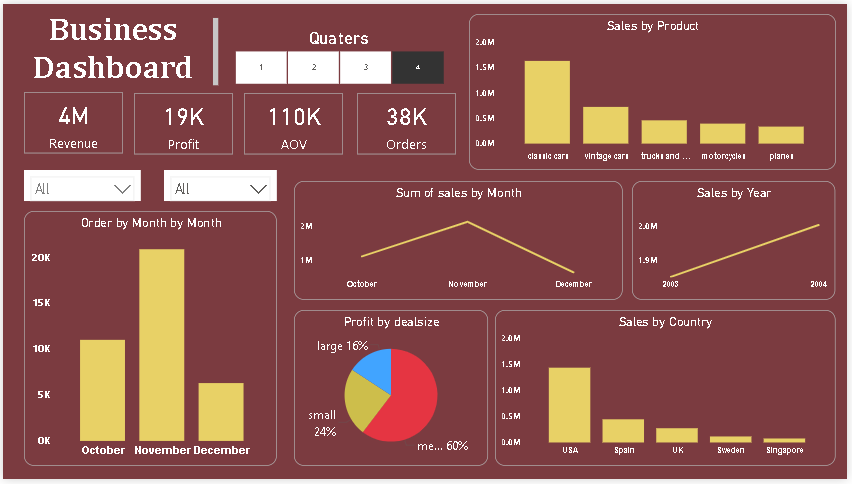

Layout of this report page (visuals, bound fields, positions):
{"tool":"powerbi","page":{"name":"Page 1","canvas":[1280,720],"ordinal":0},"visuals":[{"type":"lineChart","title":"Sales by Year","fields":{"Category":["Sheet1.sell_date.Variation.Date Hierarchy.Year","Sheet1.sell_date.Variation.Date Hierarchy.Quarter","Sheet1.sell_date.Variation.Date Hierarchy.Month","Sheet1.sell_date.Variation.Date Hierarchy.Day"],"Y":["Sum(Sheet1.sales)"]},"box":[953,268.2,307.6,180.3],"z":0},{"type":"columnChart","title":"Sales by Country","fields":{"Category":["Sheet1.country"],"Y":["Sum(Sheet1.sales)"]},"box":[745.7,464.3,515.7,235.7],"z":1000},{"type":"columnChart","title":"Sales by Product","fields":{"Category":["Sheet1.product"],"Y":["Sum(Sheet1.sales)"]},"box":[706.1,15.2,556.1,236.4],"z":2000},{"type":"slicer","title":"Quaters","fields":{"Values":["Sheet1.qtr_id"]},"box":[331.8,34.8,354.5,87.9],"z":3000},{"type":"card","fields":{"Values":["Sum(Sheet1.sales)"]},"box":[31.4,132.9,150,92.9],"z":4000},{"type":"card","fields":{"Values":["Sum(Sheet1.profit)"]},"box":[198.6,134.3,150,92.9],"z":5000},{"type":"card","fields":{"Values":["Sum(Sheet1.sell_price)"]},"box":[365.7,134.3,150,92.9],"z":6000},{"type":"card","fields":{"Values":["Sum(Sheet1.quantity_ordered)"]},"box":[535.7,134.3,150,92.9],"z":7000},{"type":"pieChart","title":"Profit by dealsize","fields":{"Category":["Sheet1.dealsize"],"Y":["Sum(Sheet1.profit)"]},"box":[440.9,463.6,293.9,236.4],"z":9000},{"type":"lineChart","fields":{"Y":["Sum(Sheet1.sales)"],"Category":["Sheet1.sell_date.Variation.Date Hierarchy.Month"]},"box":[440.9,268.2,498.5,180.3],"z":9001},{"type":"textbox","box":[15.2,15.2,310.6,107.6],"z":9002},{"type":"slicer","fields":{"Values":["Sheet1.sell_date.Variation.Date Hierarchy.Month"]},"box":[243.9,251.5,171.2,47],"z":9004},{"type":"slicer","fields":{"Values":["Sheet1.country"]},"box":[31.8,251.5,177.3,47],"z":9005},{"type":"lineClusteredColumnComboChart","fields":{"Category":["Sheet1.sell_date.Variation.Date Hierarchy.Month"],"Y":["Sum(Sheet1.quantity_ordered)"]},"box":[31.8,313.6,383.3,386.4],"z":9006}]}

Visuals, with their boxes in screenshot pixels (x1, y1, x2, y2), scaled from the page's 1280x720 canvas onto the 852x484 screenshot:
"Sales by Year" lineChart: (left=634, top=180, right=839, bottom=301)
"Sales by Country" columnChart: (left=496, top=312, right=840, bottom=471)
"Sales by Product" columnChart: (left=470, top=10, right=840, bottom=169)
"Quaters" slicer: (left=221, top=23, right=457, bottom=82)
card - Sum(Sheet1.sales): (left=21, top=89, right=121, bottom=152)
card - Sum(Sheet1.profit): (left=132, top=90, right=232, bottom=153)
card - Sum(Sheet1.sell_price): (left=243, top=90, right=343, bottom=153)
card - Sum(Sheet1.quantity_ordered): (left=357, top=90, right=456, bottom=153)
"Profit by dealsize" pieChart: (left=293, top=312, right=489, bottom=471)
lineChart - Sum(Sheet1.sales) x Sheet1.sell_date.Variation.Date Hierarchy.Month: (left=293, top=180, right=625, bottom=301)
textbox: (left=10, top=10, right=217, bottom=83)
slicer - Sheet1.sell_date.Variation.Date Hierarchy.Month: (left=162, top=169, right=276, bottom=201)
slicer - Sheet1.country: (left=21, top=169, right=139, bottom=201)
lineClusteredColumnComboChart - Sheet1.sell_date.Variation.Date Hierarchy.Month x Sum(Sheet1.quantity_ordered): (left=21, top=211, right=276, bottom=471)
